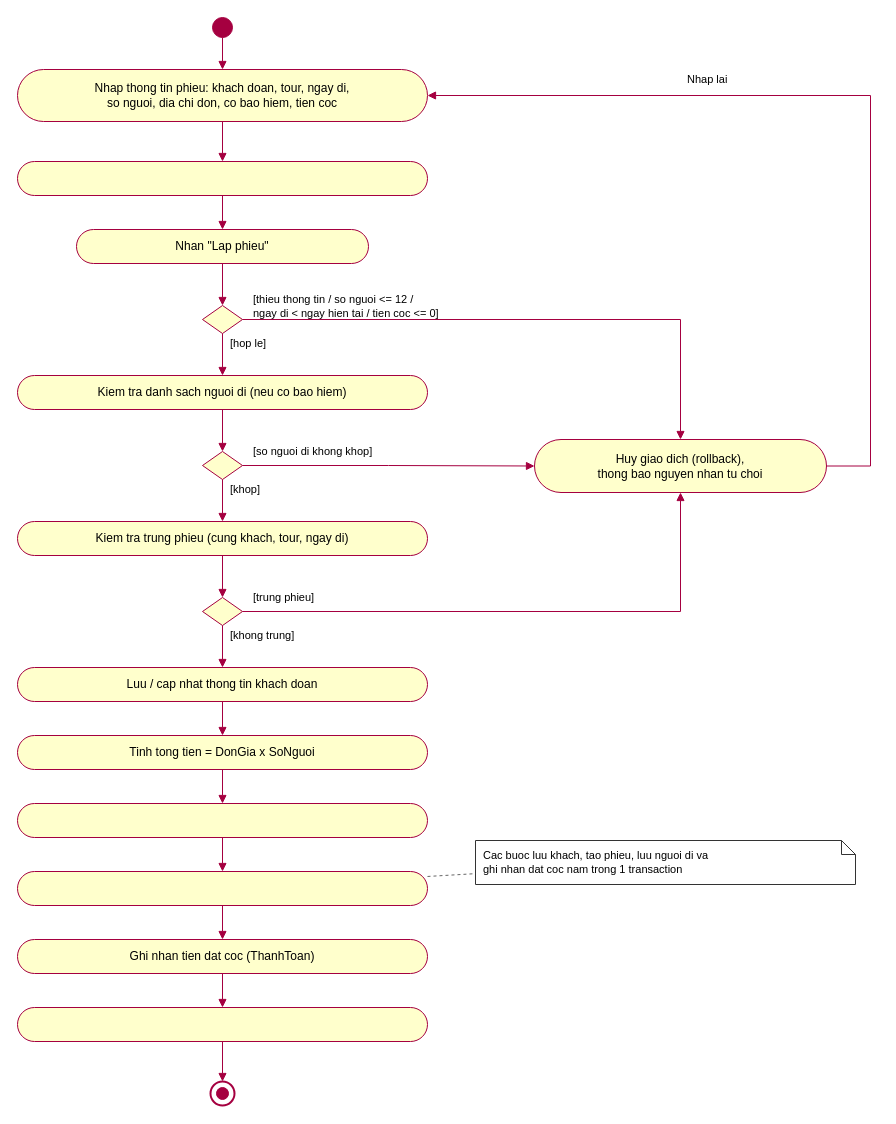
Image size: 896x1124. Some labels were removed from this diagram. The box of each missing label's shape, as (x1, y1, x2, y2) in pixels:
Luu danh sach nguoi cung di (ThanhVienDoan): (16, 870, 428, 906)
Nhap danh sach nguoi cung di (neu co bao hiem): (16, 160, 428, 196)
Tao phieu dang ky doan (TrangThai = Da dat coc): (16, 802, 428, 838)
Thong bao lap phieu thanh cong, in bien nhan coc: (16, 1006, 428, 1042)
